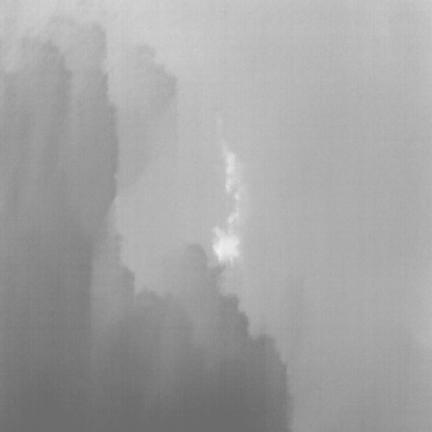flukeprints: (221, 140, 240, 208), (213, 227, 239, 262), (227, 200, 240, 234)
